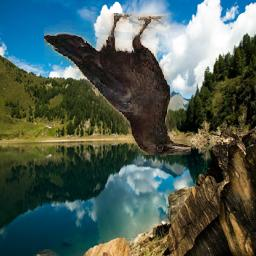Crow: (45, 13, 192, 155)
